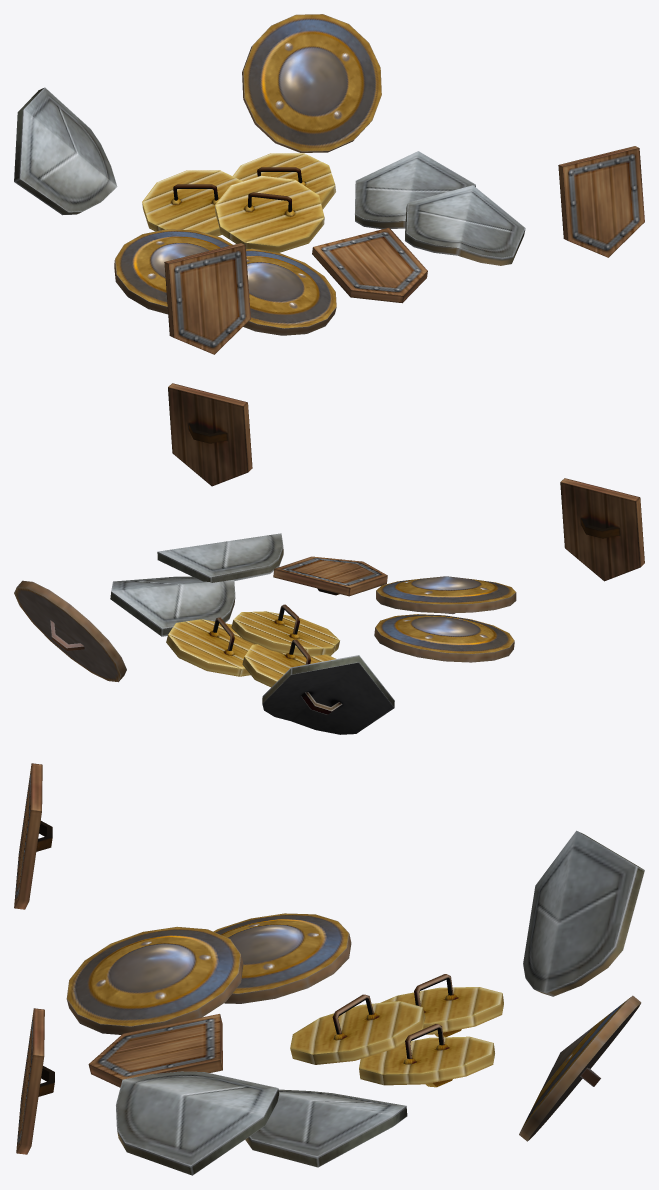
Rendered from Stall Goods (Shields).fbx.
The picture shows the model from 3 angles, top to bottom: view 1: azimuth 30°, elevation 25°; view 2: azimuth 150°, elevation 25°; view 3: azimuth 270°, elevation 25°; orthographic projection. The views are drawn at different scales.
Parts seen in each view (by area): view 1: shield003, shield002, shield001, shield001.001, shield002.001, shield0010.002, shield003.002, shield001.002, shield002.002, shield003.001, shield0010.001, shield0010; view 2: shield002, shield001, shield001.001, shield003.001, shield002.002, shield003, shield003.002, shield002.001, shield0010, shield0010.002, shield001.002, shield0010.001; view 3: shield003.002, shield002, shield002.001, shield003.001, shield002.002, shield001.002, shield0010.002, shield0010, shield003, shield0010.001, shield001, shield001.001.
Boxes of the visible parts, left/top/right/bottom form: shield003: left=242, top=14, right=381, bottom=152; shield002: left=14, top=87, right=117, bottom=215; shield001: left=164, top=243, right=250, bottom=354; shield001.001: left=558, top=146, right=644, bottom=257; shield002.001: left=405, top=185, right=525, bottom=265; shield0010.002: left=215, top=175, right=324, bottom=252; shield003.002: left=243, top=248, right=336, bottom=335; shield001.002: left=312, top=227, right=427, bottom=303; shield002.002: left=355, top=151, right=475, bottom=229; shield003.001: left=114, top=229, right=232, bottom=314; shield0010.001: left=142, top=170, right=242, bottom=236; shield0010: left=233, top=153, right=335, bottom=209; shield002: left=262, top=655, right=394, bottom=734; shield001: left=560, top=478, right=644, bottom=581; shield001.001: left=168, top=383, right=252, bottom=486; shield003.001: left=374, top=614, right=514, bottom=662; shield002.002: left=110, top=576, right=235, bottom=636; shield003: left=14, top=580, right=126, bottom=682; shield003.002: left=376, top=576, right=516, bottom=614; shield002.001: left=157, top=533, right=283, bottom=582; shield0010: left=166, top=617, right=254, bottom=676; shield0010.002: left=231, top=604, right=339, bottom=656; shield001.002: left=273, top=556, right=387, bottom=596; shield0010.001: left=242, top=639, right=335, bottom=687; shield003.002: left=66, top=926, right=243, bottom=1034; shield002: left=523, top=830, right=644, bottom=996; shield002.001: left=116, top=1071, right=279, bottom=1175; shield003.001: left=213, top=913, right=351, bottom=1003; shield002.002: left=245, top=1089, right=407, bottom=1167; shield001.002: left=88, top=1014, right=222, bottom=1087; shield0010.002: left=290, top=994, right=425, bottom=1064; shield0010: left=359, top=1024, right=494, bottom=1087; shield003: left=519, top=995, right=641, bottom=1141; shield0010.001: left=380, top=974, right=503, bottom=1037; shield001: left=14, top=763, right=52, bottom=909; shield001.001: left=16, top=1008, right=54, bottom=1154.
Size of the model in its own units: 1.85 by 0.4536 by 1.68.
